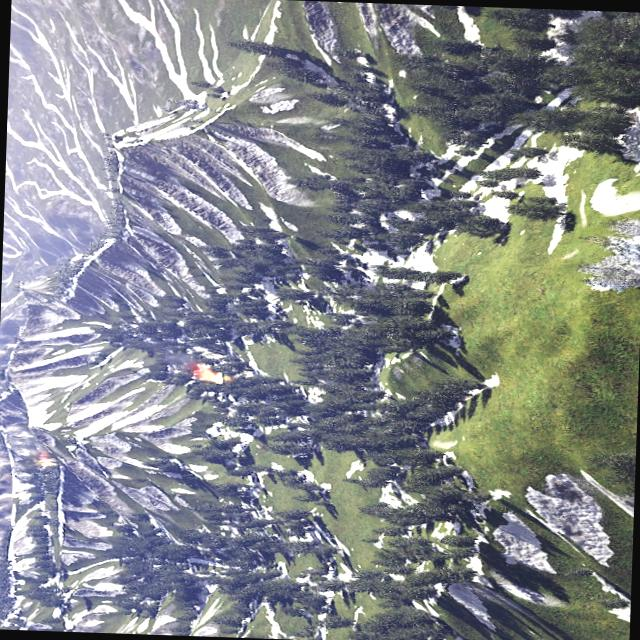fire: (194, 365, 226, 382), (36, 453, 53, 464)
smoke: (162, 348, 201, 375), (17, 444, 47, 456)
